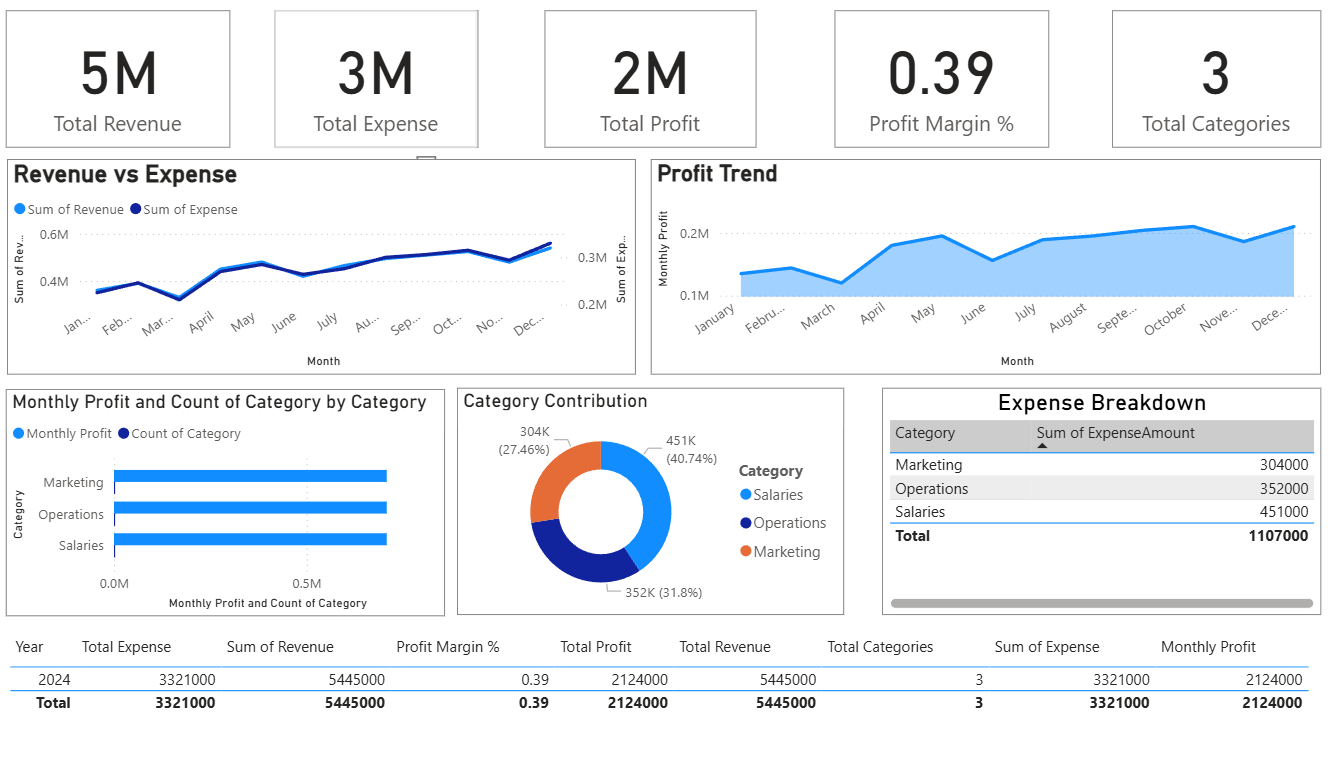

This screenshot's page, from the dashboard's own definition file:
{"tool":"powerbi","page":{"name":"Page 1","canvas":[1280,720],"ordinal":0},"visuals":[{"type":"card","fields":{"Values":["Sheet1.Total Revenue"]},"box":[21.2,15,200,122.5],"z":0},{"type":"card","fields":{"Values":["Sheet1.Total Expense"]},"box":[260,15,181.2,122.5],"z":1000},{"type":"card","fields":{"Values":["Sheet1.Total Profit"]},"box":[501.2,15,188.8,122.5],"z":2000},{"type":"card","fields":{"Values":["Sheet1.Profit Margin %"]},"box":[758.8,15,191.2,122.5],"z":3000},{"type":"card","fields":{"Values":["Sheet1.Total Categories"]},"box":[1006.2,15,186.2,122.5],"z":4000},{"type":"areaChart","title":"Profit Trend","fields":{"Category":["Sheet1.Month.Variation.Date Hierarchy.Month"],"Y":["Sheet1.Monthly Profit"]},"box":[602.5,147.5,570,191.2],"z":5000},{"type":"lineChart","title":"Revenue vs Expense","fields":{"Y":["Sum(Sheet1.Revenue)"],"Y2":["Sum(Sheet1.Expense)"],"Category":["Sheet1.Month.Variation.Date Hierarchy.Month"]},"box":[30,147.5,557.5,191.2],"z":6000},{"type":"clusteredBarChart","fields":{"Y":["Sheet1.Monthly Profit","CountNonNull(Sheet1.Category)"],"Category":["Sheet1.Category"]},"box":[21.2,351.2,391.2,202.5],"z":7000},{"type":"donutChart","title":"Category Contribution","fields":{"Y":["Sum(Sheet1.ExpenseAmount)"],"Category":["Sheet1.Category"]},"box":[430,347.5,345,188.8],"z":8000},{"type":"tableEx","title":"Expense Breakdown","fields":{"Values":["Sheet1.Category","Sum(Sheet1.ExpenseAmount)"]},"box":[826.2,360,366.2,176.2],"z":9000},{"type":"tableEx","fields":{"Values":["Sum(Sheet1.Revenue)","Sheet1.Month.Variation.Date Hierarchy.Month","Sum(Sheet1.Expense)","Sheet1.Total Profit","Sheet1.Profit Margin %"]},"box":[0,536.2,1192.5,166.2],"z":10000}]}

Visuals, with their boxes in screenshot pixels (x1, y1, x2, y2), scaled from the page's 1280x720 canvas onto the 1341x762 screenshot:
card - Sheet1.Total Revenue: {"x1": 22, "y1": 16, "x2": 232, "y2": 146}
card - Sheet1.Total Expense: {"x1": 272, "y1": 16, "x2": 462, "y2": 146}
card - Sheet1.Total Profit: {"x1": 525, "y1": 16, "x2": 723, "y2": 146}
card - Sheet1.Profit Margin %: {"x1": 795, "y1": 16, "x2": 995, "y2": 146}
card - Sheet1.Total Categories: {"x1": 1054, "y1": 16, "x2": 1249, "y2": 146}
"Profit Trend" areaChart: {"x1": 631, "y1": 156, "x2": 1228, "y2": 358}
"Revenue vs Expense" lineChart: {"x1": 31, "y1": 156, "x2": 615, "y2": 358}
clusteredBarChart - Sheet1.Monthly Profit x CountNonNull(Sheet1.Category): {"x1": 22, "y1": 372, "x2": 432, "y2": 586}
"Category Contribution" donutChart: {"x1": 450, "y1": 368, "x2": 812, "y2": 568}
"Expense Breakdown" tableEx: {"x1": 866, "y1": 381, "x2": 1249, "y2": 567}
tableEx - Sum(Sheet1.Revenue) x Sheet1.Month.Variation.Date Hierarchy.Month: {"x1": 0, "y1": 567, "x2": 1249, "y2": 743}
